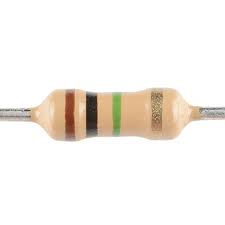resistor: (18, 66, 214, 192)
